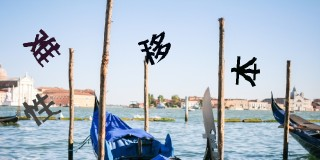性: (22, 93, 61, 126)
本: (231, 56, 260, 87)
移: (138, 30, 171, 65)
难: (23, 28, 61, 67)
